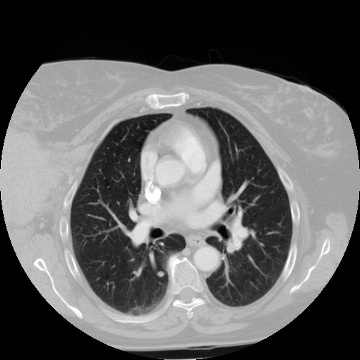PN: (156, 270, 164, 278)
